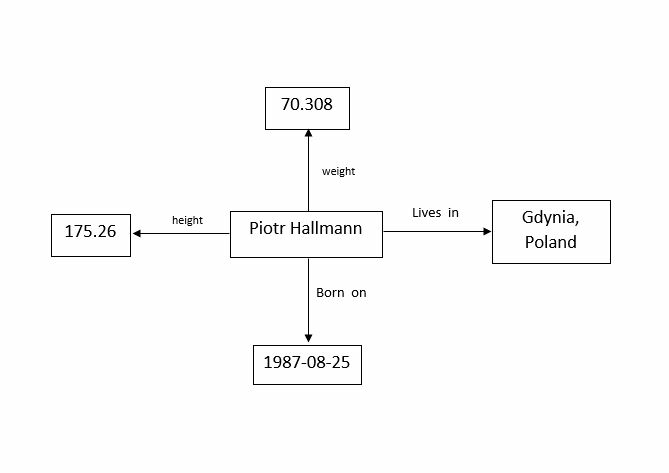arrow: (380, 225, 493, 238), (130, 226, 231, 239), (301, 126, 315, 213), (303, 257, 314, 345)
process: (489, 196, 613, 268), (227, 208, 387, 261), (250, 342, 365, 389), (263, 84, 352, 133), (48, 211, 133, 260)
text: (520, 207, 580, 252), (247, 220, 362, 237), (261, 353, 350, 369), (62, 220, 118, 240), (278, 93, 333, 112), (408, 205, 462, 220), (315, 285, 368, 299), (168, 213, 206, 227), (320, 164, 358, 177)
